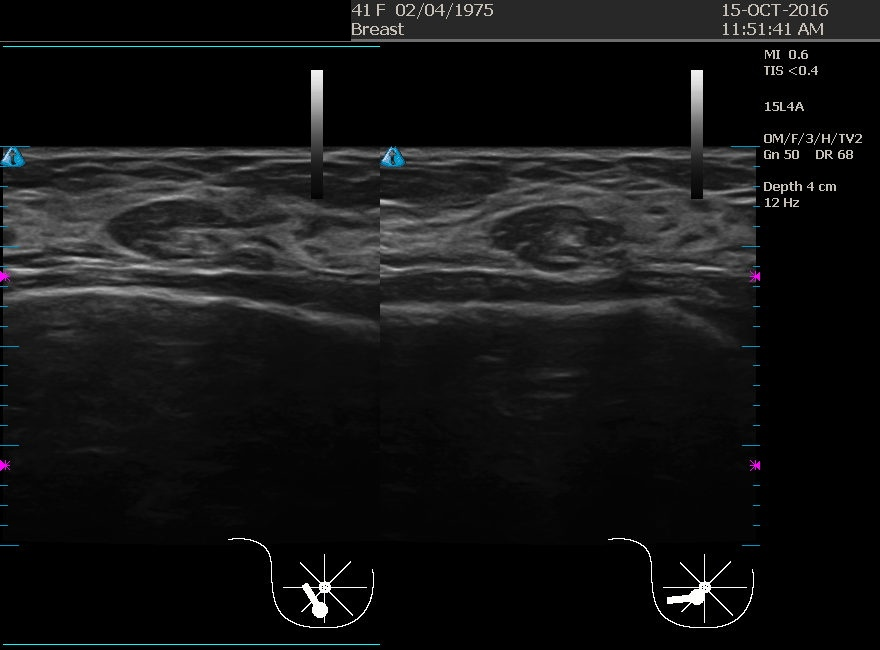BIRADS_3: (72, 161, 272, 362), (439, 156, 639, 356)
